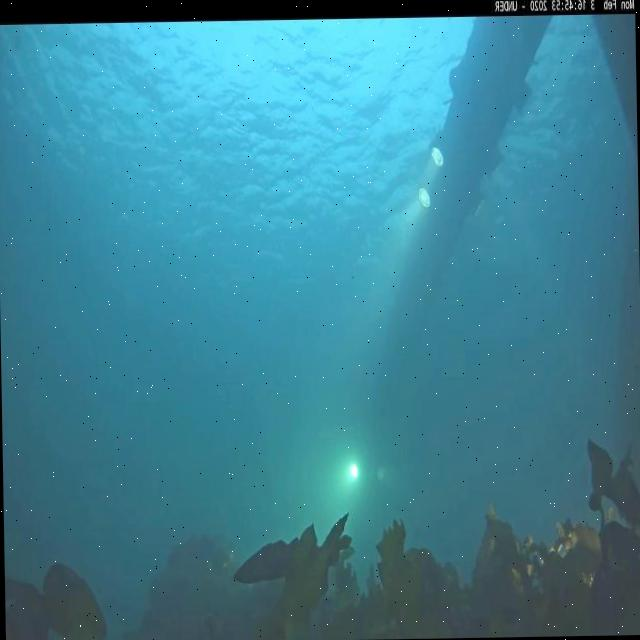fish: (230, 538, 294, 588)
